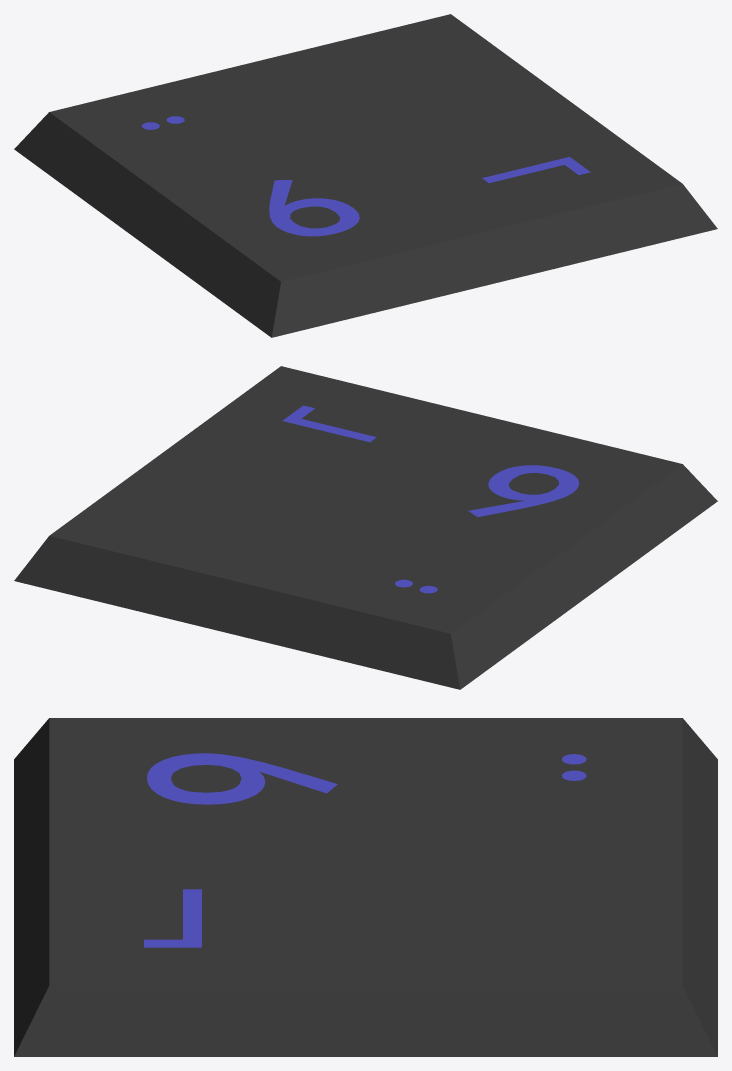
Rendered from original-15.obj.
3 renders of one model, top to bottom at view 1: azimuth 30°, elevation 25°; view 2: azimuth 150°, elevation 25°; view 3: azimuth 270°, elevation 25°, orthographic. The views are drawn at different scales.
Visible parts, largest first — view 1: mesh13/mesh13-geometry#mesh13-geometry; view 2: mesh13/mesh13-geometry#mesh13-geometry; view 3: mesh13/mesh13-geometry#mesh13-geometry.
Boxes of the visible parts, left/top/right/bottom form: mesh13/mesh13-geometry#mesh13-geometry: left=14, top=14, right=717, bottom=337; mesh13/mesh13-geometry#mesh13-geometry: left=14, top=366, right=717, bottom=689; mesh13/mesh13-geometry#mesh13-geometry: left=14, top=718, right=717, bottom=1056.
Size of the model in its own units: 0.0694 by 0.00612 by 0.0694.
